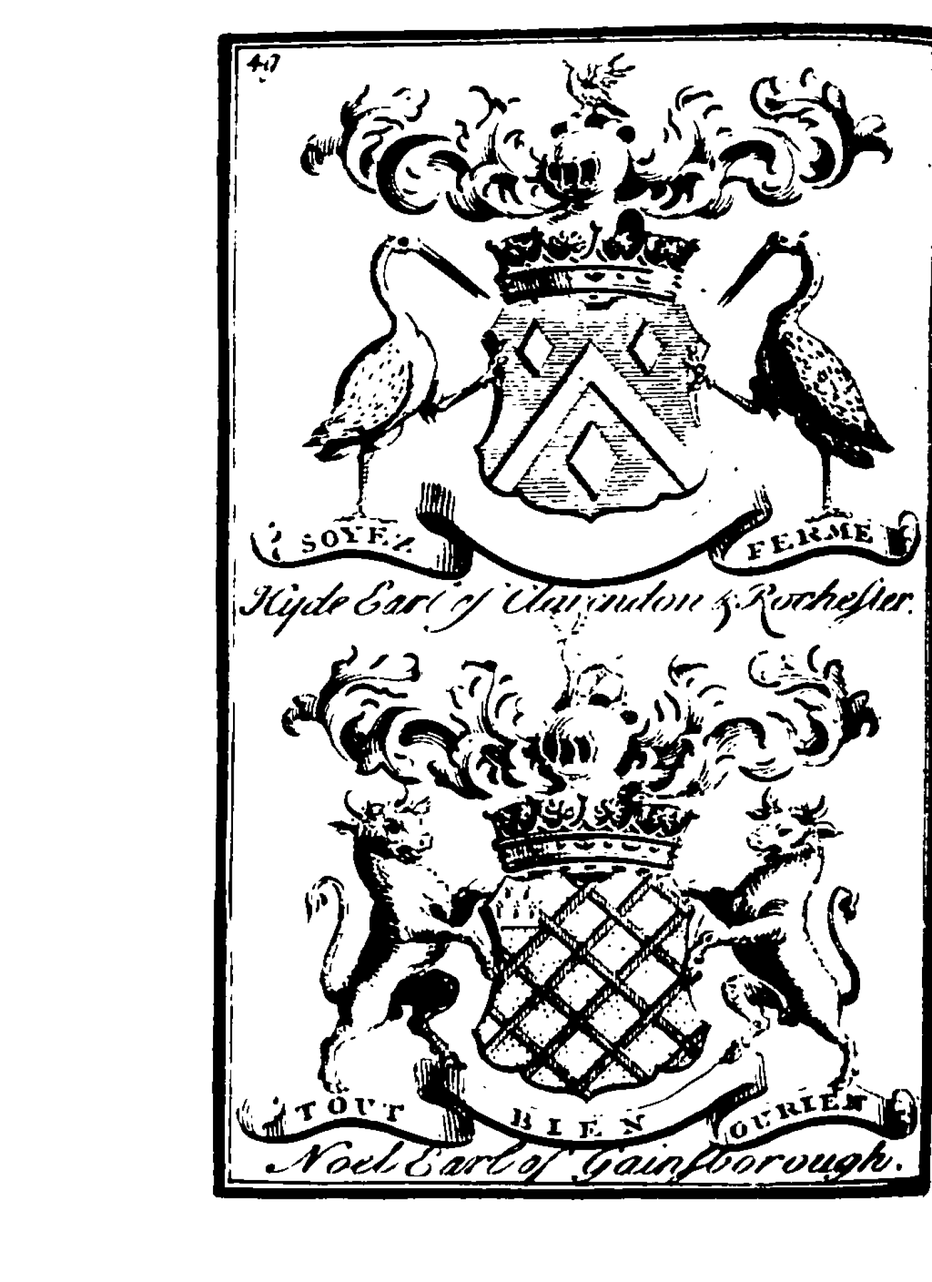coat_of_arms: (242, 51, 919, 632), (236, 635, 919, 1182)
